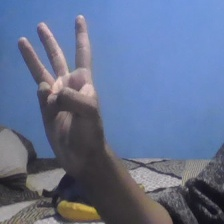W: (15, 8, 111, 173)
